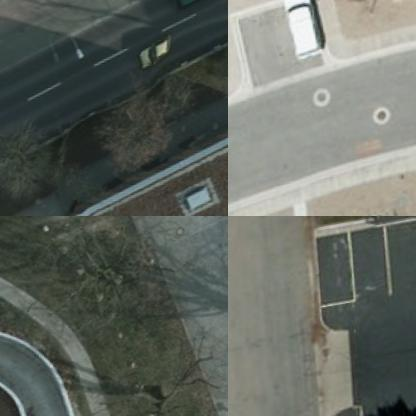car: (274, 0, 339, 61)
